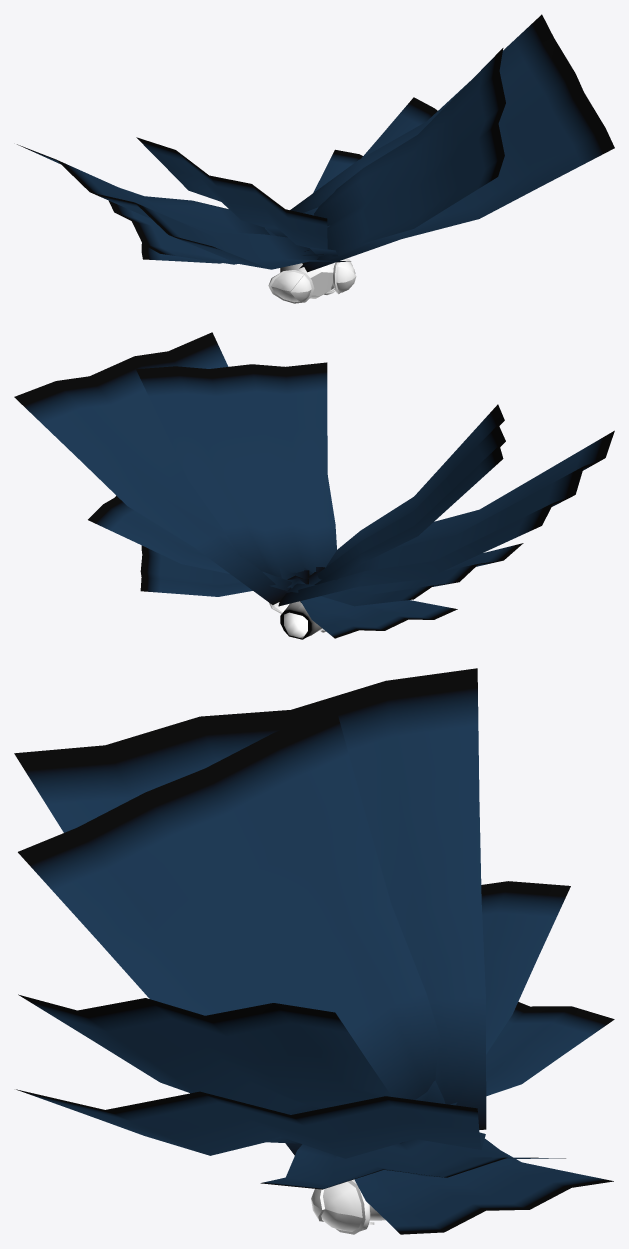
File: SM_ChestArmor.fbx
The picture shows the model from 3 angles, top to bottom: view 1: azimuth 30°, elevation 25°; view 2: azimuth 150°, elevation 25°; view 3: azimuth 270°, elevation 25°; orthographic projection. The views are drawn at different scales.
Parts seen in each view (by area): view 1: transform1; view 2: transform1; view 3: transform1.
Part boxes in pixels (left/top/right/bottom): transform1: left=17, top=14, right=614, bottom=303; transform1: left=14, top=332, right=614, bottom=639; transform1: left=14, top=668, right=614, bottom=1234.
Bounding box in the file's own units: 698 × 267 × 403.
